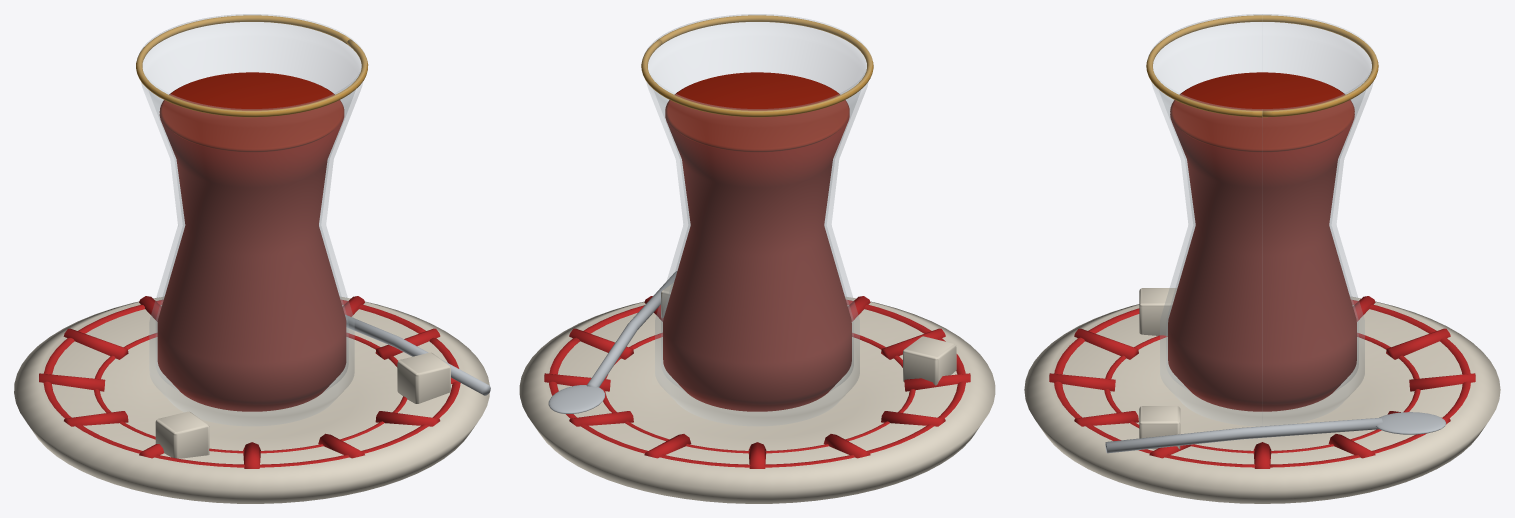
The model's file is ince_belli_tea.glb.
3 renders of one model, left to right at view 1: azimuth 30°, elevation 25°; view 2: azimuth 150°, elevation 25°; view 3: azimuth 270°, elevation 25°, orthographic.
Parts seen in each view (by area): view 1: TeaGlass, TeaSaucer, TeaLiquid, TeaMeniscus, TeaGoldRim, SaucerRedOuter, SugarCube_1, SugarCube_-1, TeaspoonHandle, SaucerRedInner, SaucerStripe_8, SaucerStripe_7 (+4 smaller); view 2: TeaGlass, TeaSaucer, TeaLiquid, TeaMeniscus, TeaGoldRim, SaucerRedOuter, SugarCube_-1, TeaspoonHandle, SaucerRedInner, TeaspoonBowl, SaucerStripe_10, SaucerStripe_6 (+6 smaller); view 3: TeaGlass, TeaSaucer, TeaLiquid, TeaMeniscus, TeaGoldRim, TeaspoonHandle, SaucerRedOuter, SugarCube_-1, SaucerRedInner, SugarCube_1, TeaspoonBowl, SaucerStripe_4 (+5 smaller).
Boxes of the visible parts, x1,y1,x2,y2 form: TeaGlass: (137, 14, 366, 425); TeaSaucer: (14, 296, 489, 503); TeaLiquid: (157, 114, 346, 411); TeaMeniscus: (159, 72, 344, 152); TeaGoldRim: (136, 15, 368, 117); SaucerRedOuter: (43, 299, 460, 467); SugarCube_1: (397, 352, 450, 403); SugarCube_-1: (155, 411, 209, 458); TeaspoonHandle: (345, 314, 490, 395); SaucerRedInner: (94, 333, 407, 453); SaucerStripe_8: (63, 328, 128, 359); SaucerStripe_7: (39, 373, 105, 391); TeaGlass: (643, 14, 871, 425); TeaSaucer: (519, 296, 995, 503); TeaLiquid: (663, 115, 851, 411); TeaMeniscus: (665, 72, 849, 152); TeaGoldRim: (641, 15, 873, 117); SaucerRedOuter: (549, 299, 965, 467); SugarCube_-1: (903, 336, 956, 385); TeaspoonHandle: (586, 271, 677, 387); SaucerRedInner: (602, 332, 915, 453); TeaspoonBowl: (548, 385, 605, 413); SaucerStripe_10: (569, 411, 633, 426); SaucerStripe_6: (881, 411, 945, 426); TeaGlass: (1148, 14, 1376, 425); TeaSaucer: (1024, 296, 1500, 503); TeaLiquid: (1168, 114, 1356, 411); TeaMeniscus: (1170, 72, 1354, 152); TeaGoldRim: (1146, 15, 1378, 117); TeaspoonHandle: (1105, 417, 1382, 453); SaucerRedOuter: (1054, 299, 1470, 467); SugarCube_-1: (1139, 288, 1177, 336); SaucerRedInner: (1104, 333, 1420, 453); SugarCube_1: (1139, 406, 1180, 449); TeaspoonBowl: (1376, 412, 1446, 434); SaucerStripe_4: (1074, 328, 1138, 359).
Bounding box in the file's own units: 0.116 × 0.096 × 0.116.
